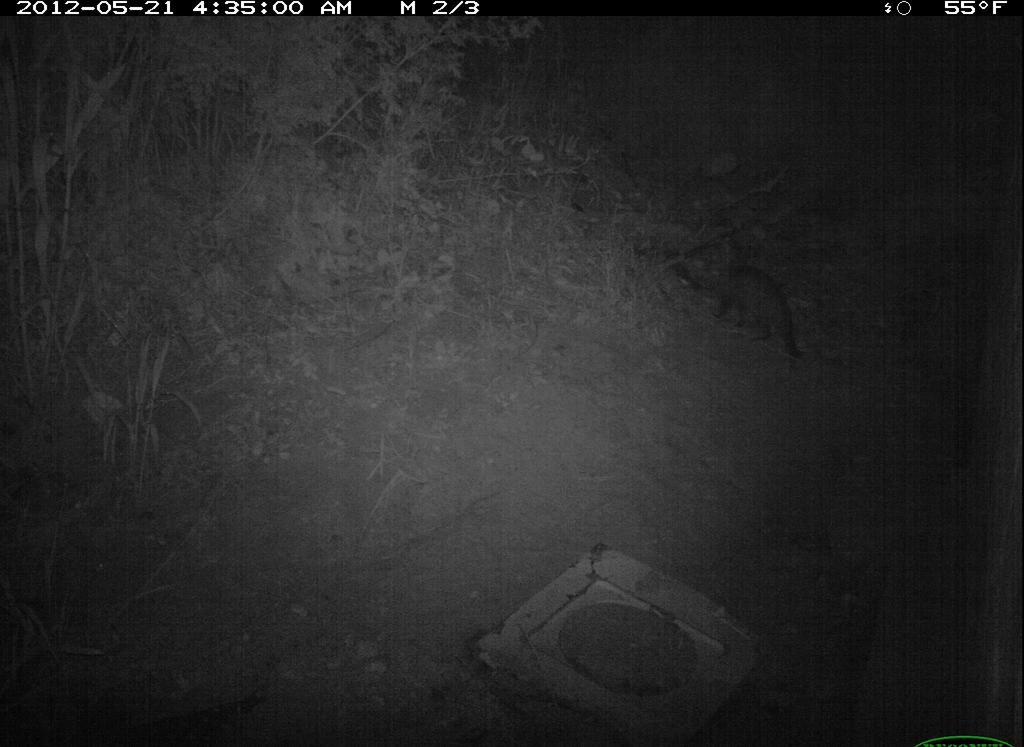cat: (702, 254, 808, 361)
